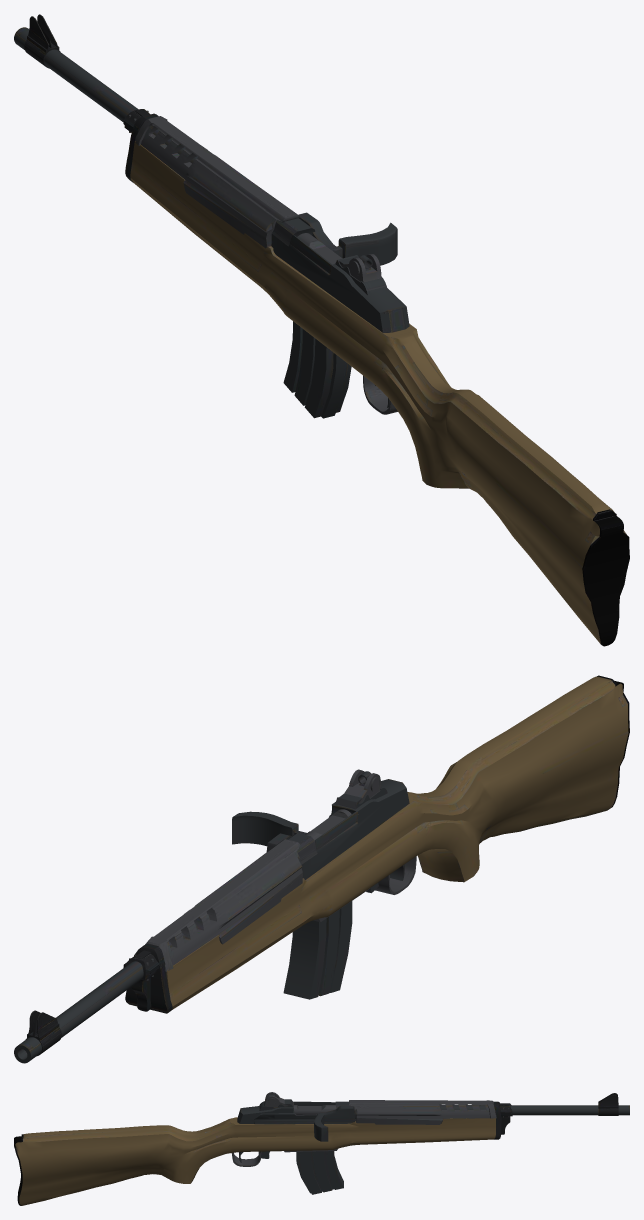
Rendered from dmr_mini14.glb.
3 renders of one model, top to bottom at view 1: azimuth 30°, elevation 25°; view 2: azimuth 150°, elevation 25°; view 3: azimuth 270°, elevation 25°, orthographic. The views are drawn at different scales.
Parts seen in each view (by area): view 1: item; view 2: item; view 3: item.
Boxes of the visible parts, bbox=[...] form: item: bbox=[14, 14, 629, 646]; item: bbox=[14, 675, 629, 1063]; item: bbox=[14, 1092, 629, 1205].
Size of the model in its own units: 0.096 by 0.1894 by 0.95.
1 material, 1 textured.
